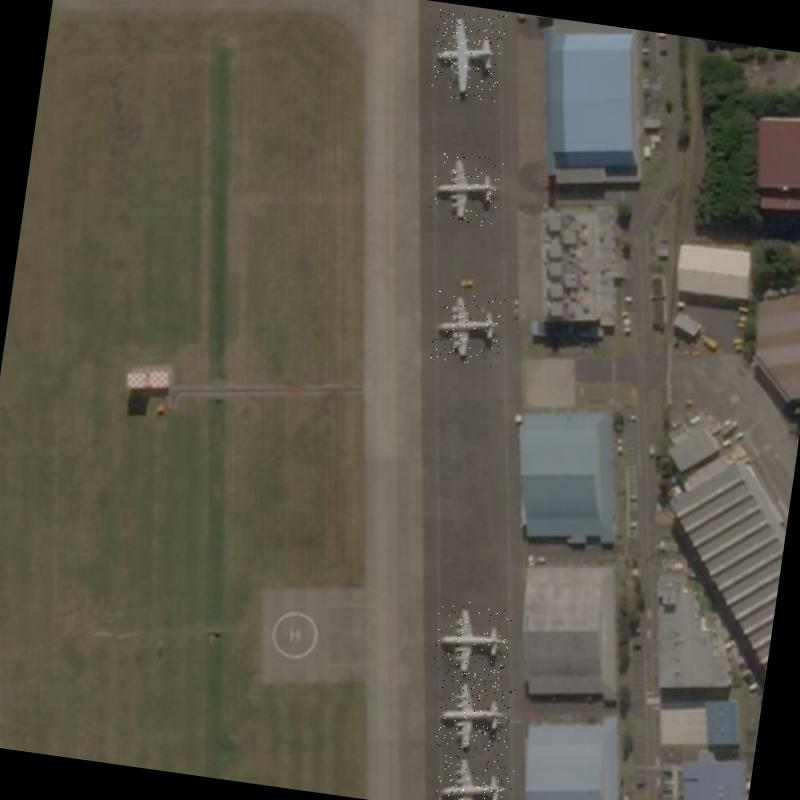A2: (426, 6, 508, 104)
A9: (430, 598, 514, 682), (434, 674, 516, 756), (428, 150, 504, 228), (429, 289, 505, 367), (432, 752, 514, 800)
